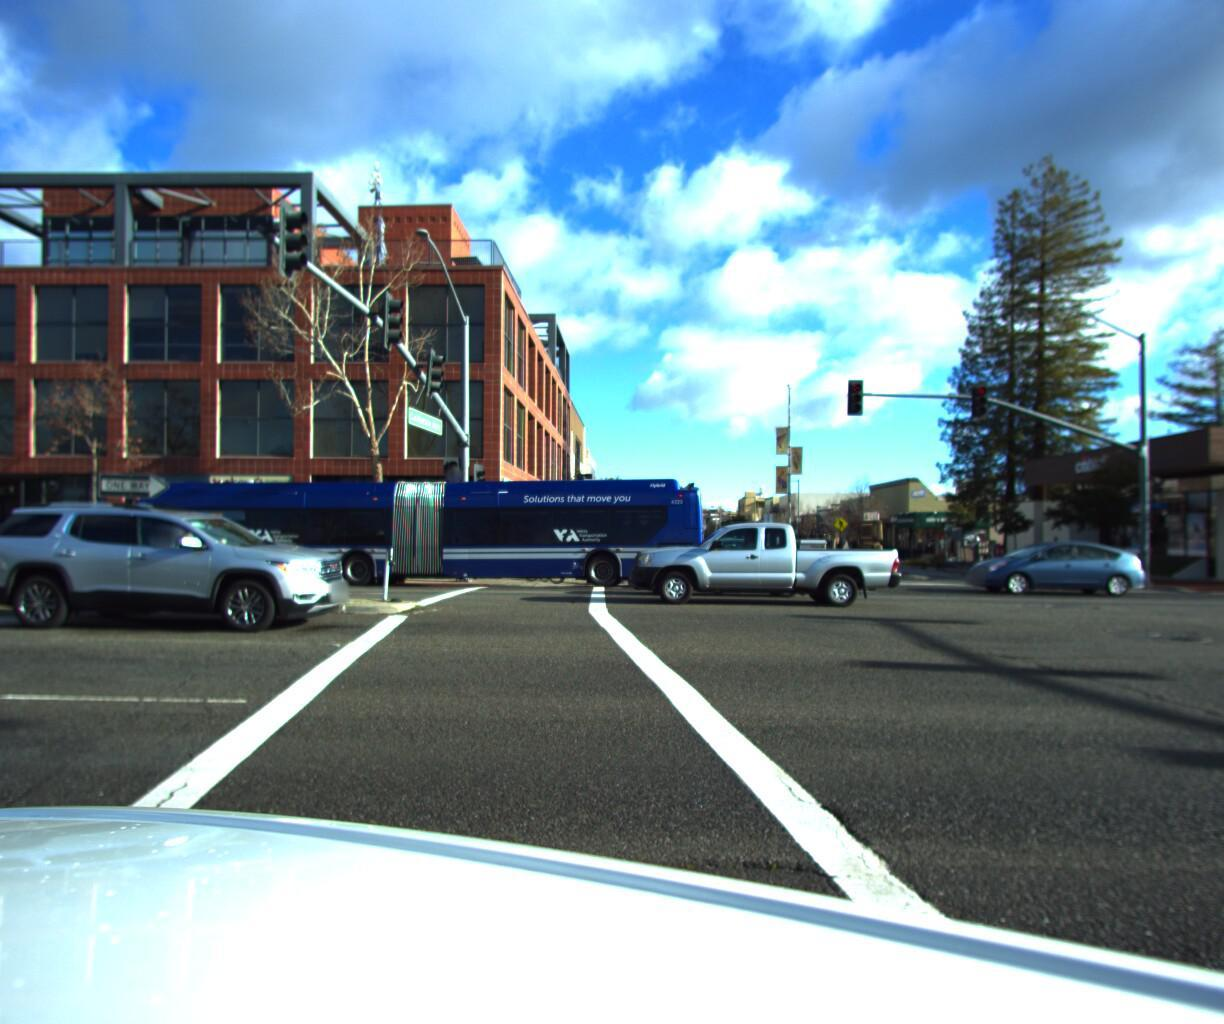bus: (68, 470, 715, 586)
car: (0, 497, 360, 628), (625, 517, 905, 608), (957, 534, 1144, 585), (0, 513, 14, 581)
